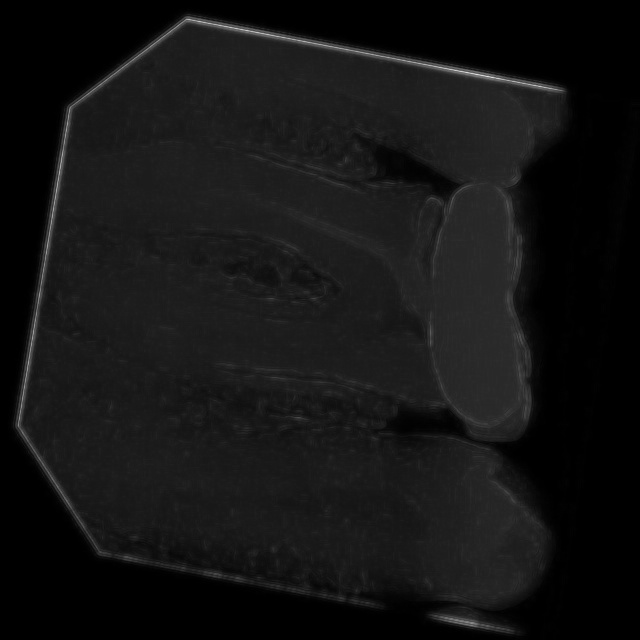Class 2- incomplete endodontic treatment: (22, 88, 565, 490)
